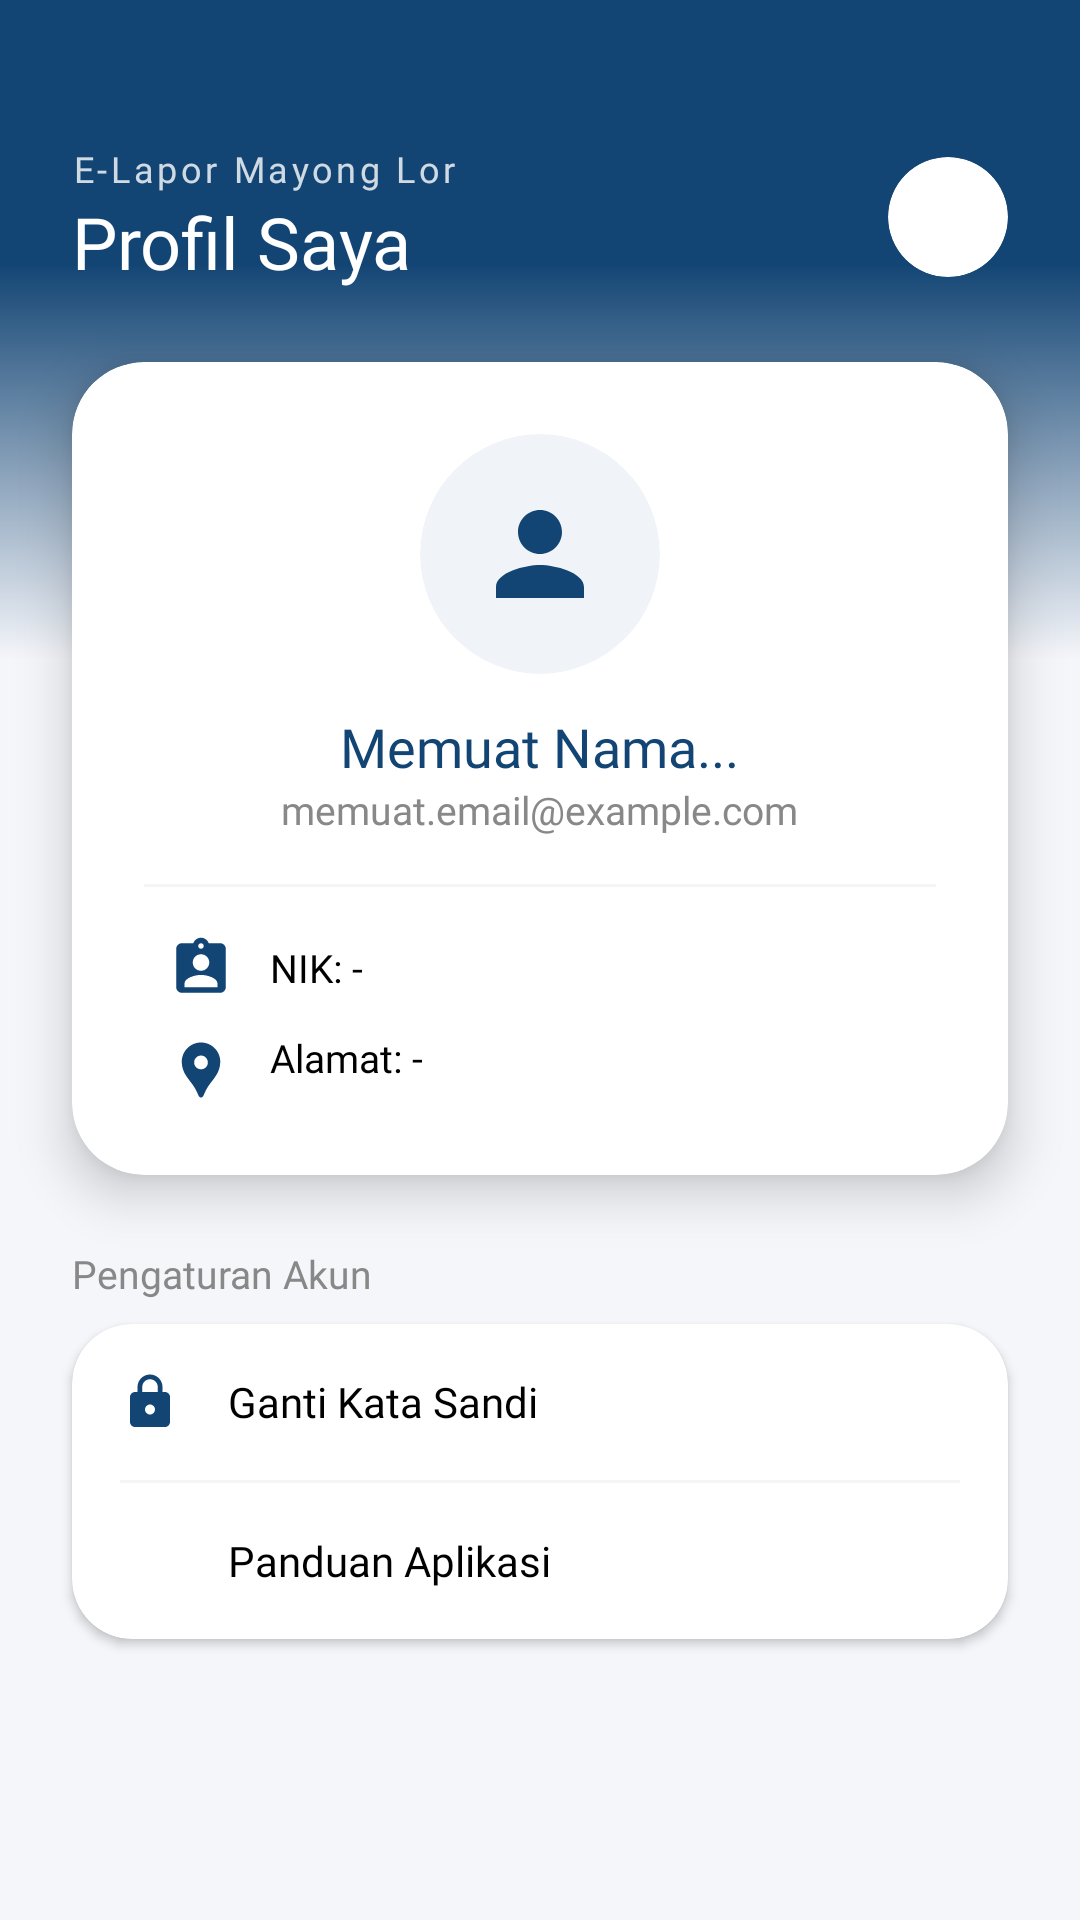

Icons on this 1080x1920 Android screen, each with the point to tap as [x,y]:
assignment ind custom: [201,965]
location custom: [201,1070]
lock custom: [150,1400]
person custom: [540,554]
